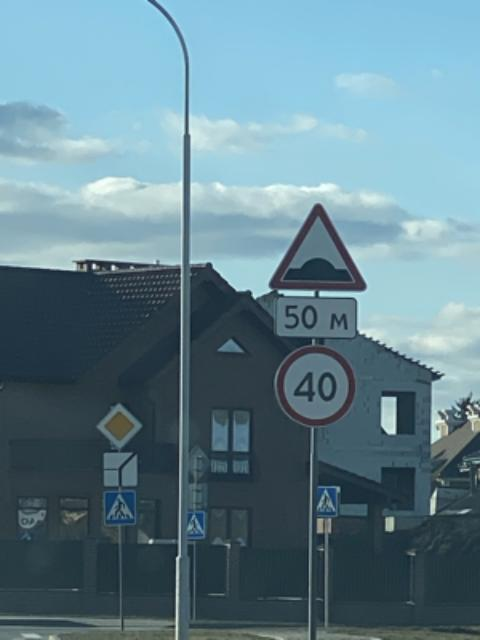crosswalk-sign: (102, 491, 138, 527), (318, 489, 341, 518), (187, 514, 208, 540)
